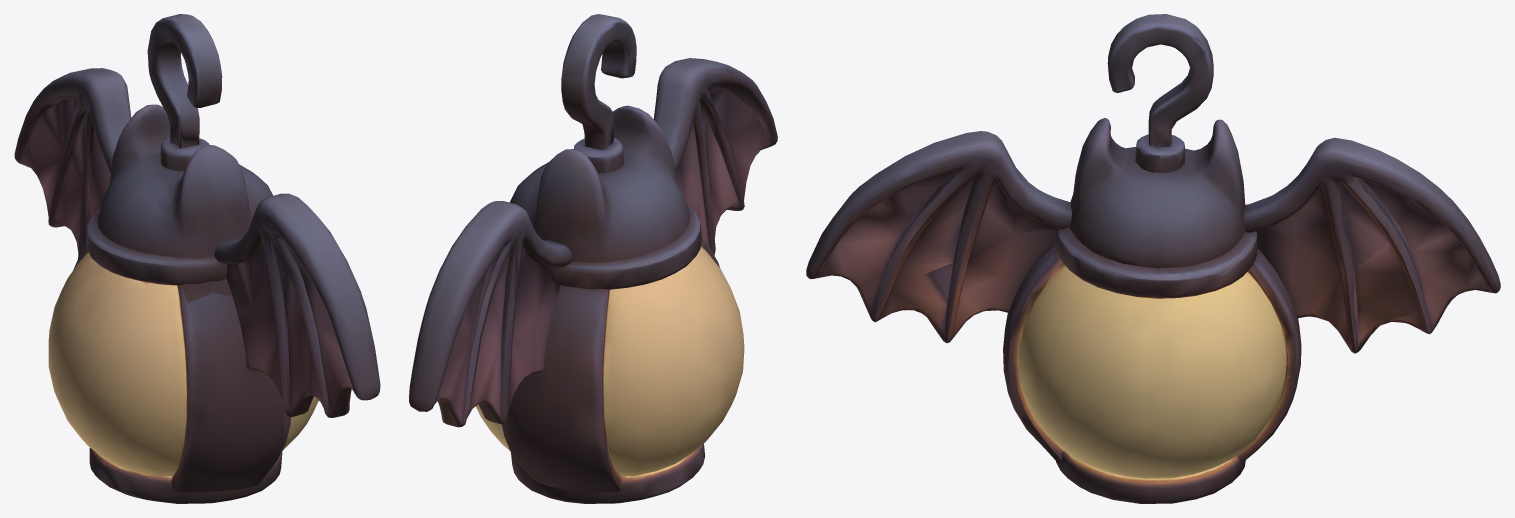
Rendered from H6_BatLantern_LOD0.fbx.
3 views of the same model, side by side, from view 1: azimuth 30°, elevation 25°; view 2: azimuth 150°, elevation 25°; view 3: azimuth 270°, elevation 25° (orthographic).
Visible parts, largest first — view 1: H6_BatLantern_LOD0; view 2: H6_BatLantern_LOD0; view 3: H6_BatLantern_LOD0.
Boxes of the visible parts, x1,y1,x2,y2 form: H6_BatLantern_LOD0: (14,14,380,503); H6_BatLantern_LOD0: (409,14,777,503); H6_BatLantern_LOD0: (806,14,1500,503).
Size of the model in its own units: 0.2791 by 0.5003 by 0.6885.
1 material, 1 textured.
